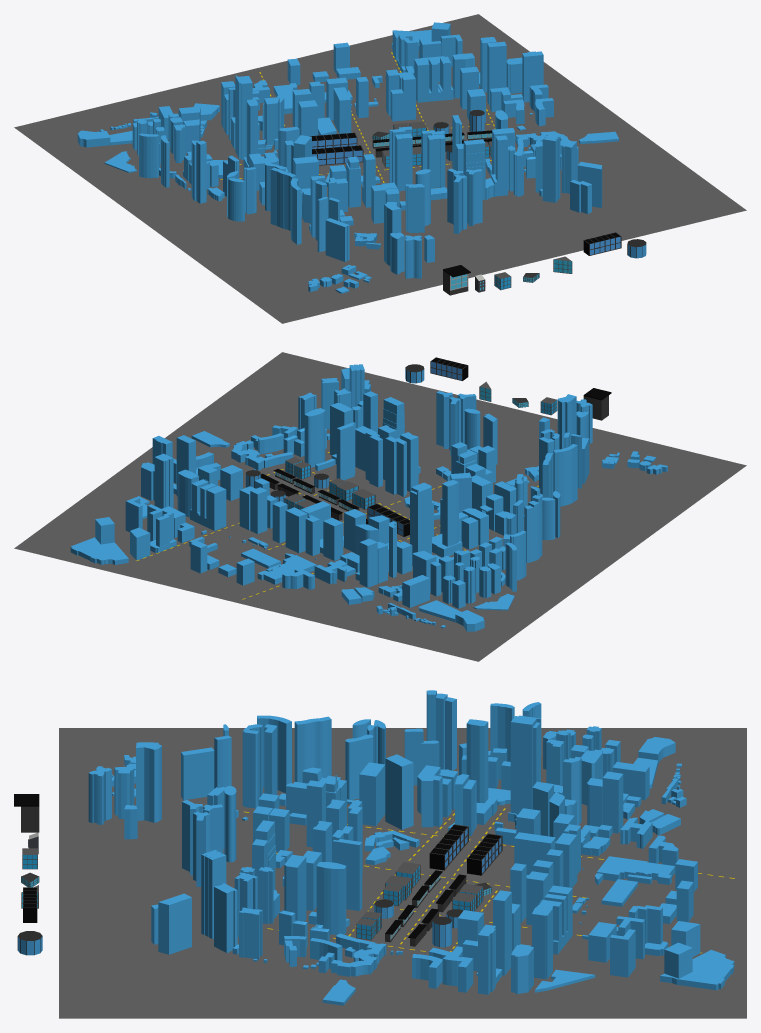
Rendered from speedstate_new_manila_map2.glb.
The picture shows the model from 3 angles, top to bottom: view 1: azimuth 30°, elevation 25°; view 2: azimuth 150°, elevation 25°; view 3: azimuth 270°, elevation 25°; orthographic projection. The views are drawn at different scales.
Visible parts, largest first — view 1: Plane, map_3.osm_buildings, Cube.046, Cube.003, Cube.005, Cube.047; view 2: map_3.osm_buildings, Plane, Cube.005, Cube.003, Cube.046; view 3: map_3.osm_buildings, Plane, Cube.046, Cube.047, Cube.003, Cylinder, Cylinder.003.
Boxes of the visible parts, x1,y1,x2,y2 form: Plane: (14,14,746,323); map_3.osm_buildings: (77,22,618,293); Cube.046: (312,145,363,165); Cube.003: (443,265,470,295); Cube.005: (583,232,621,255); Cube.047: (310,132,357,148); map_3.osm_buildings: (70,364,667,631); Plane: (14,352,746,661); Cube.005: (430,357,468,380); Cube.003: (583,388,611,420); Cube.046: (367,503,409,536); map_3.osm_buildings: (88,690,734,1005); Plane: (59,728,746,1018); Cube.046: (429,824,468,870); Cube.047: (467,833,502,875); Cube.003: (14,794,39,832); Cylinder: (17,931,42,955); Cylinder.003: (432,917,451,947).
Size of the model in its own units: 1597 by 272 by 1701.
